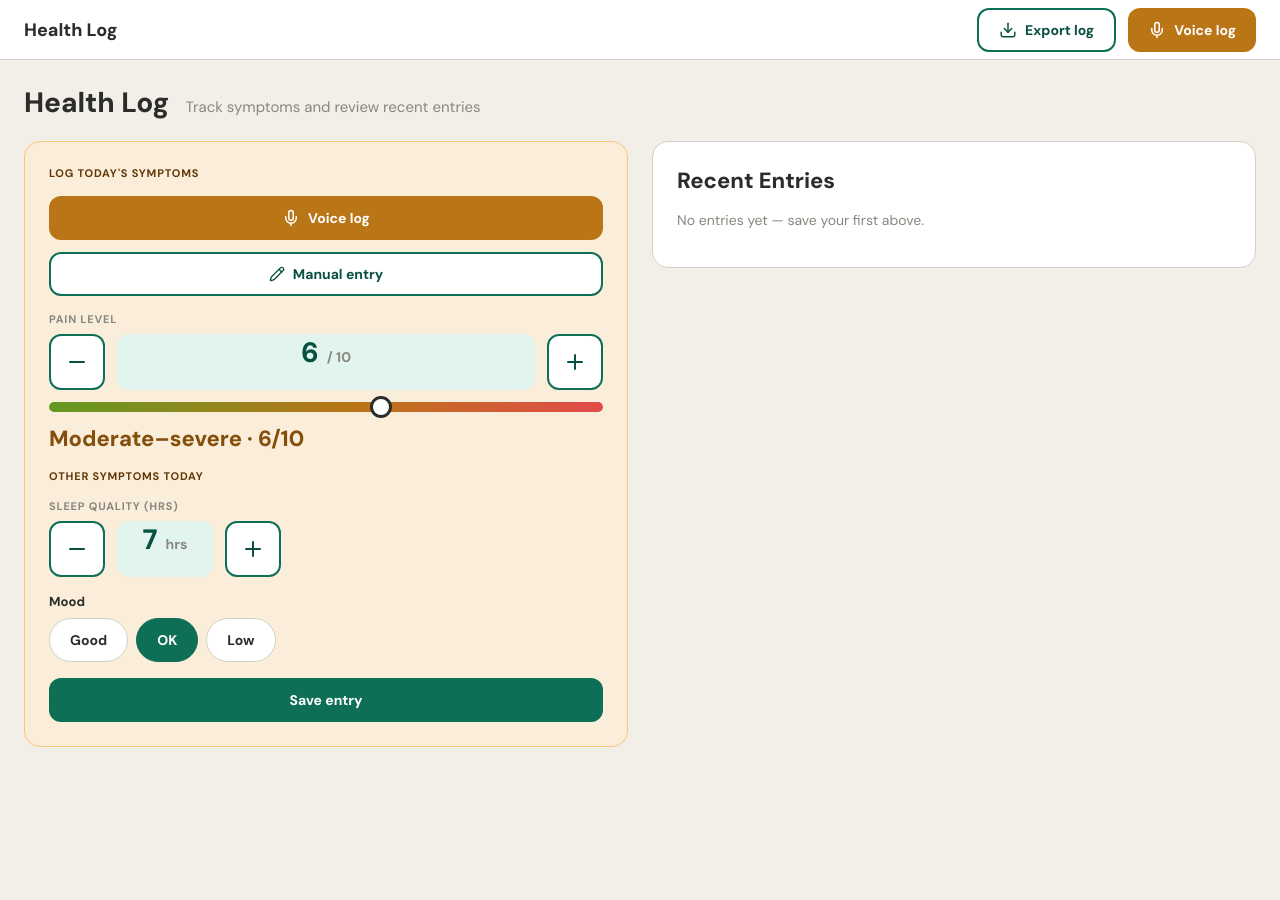
it: HealthLogScreen › saves a manual entry into Recent Entries and resets the controls
Expected: the text "No entries yet — save your first above." is shown, 677,211 -> 924,229
Click the button named "Increase Pain level". click: click(575, 362)
box: 547,334 -> 603,390
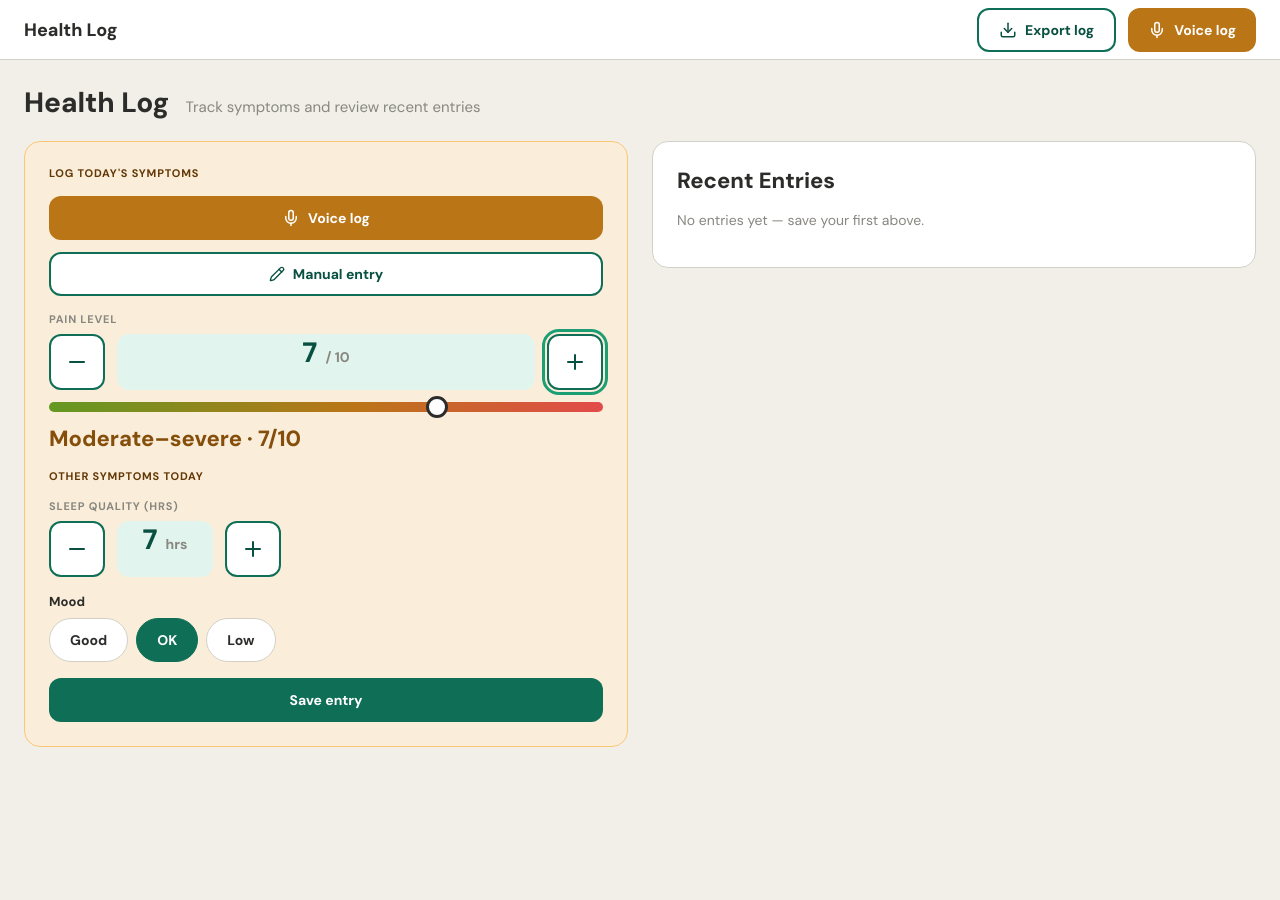
Click the button "Manual entry". click: click(326, 274)
box: 49,252 -> 603,296
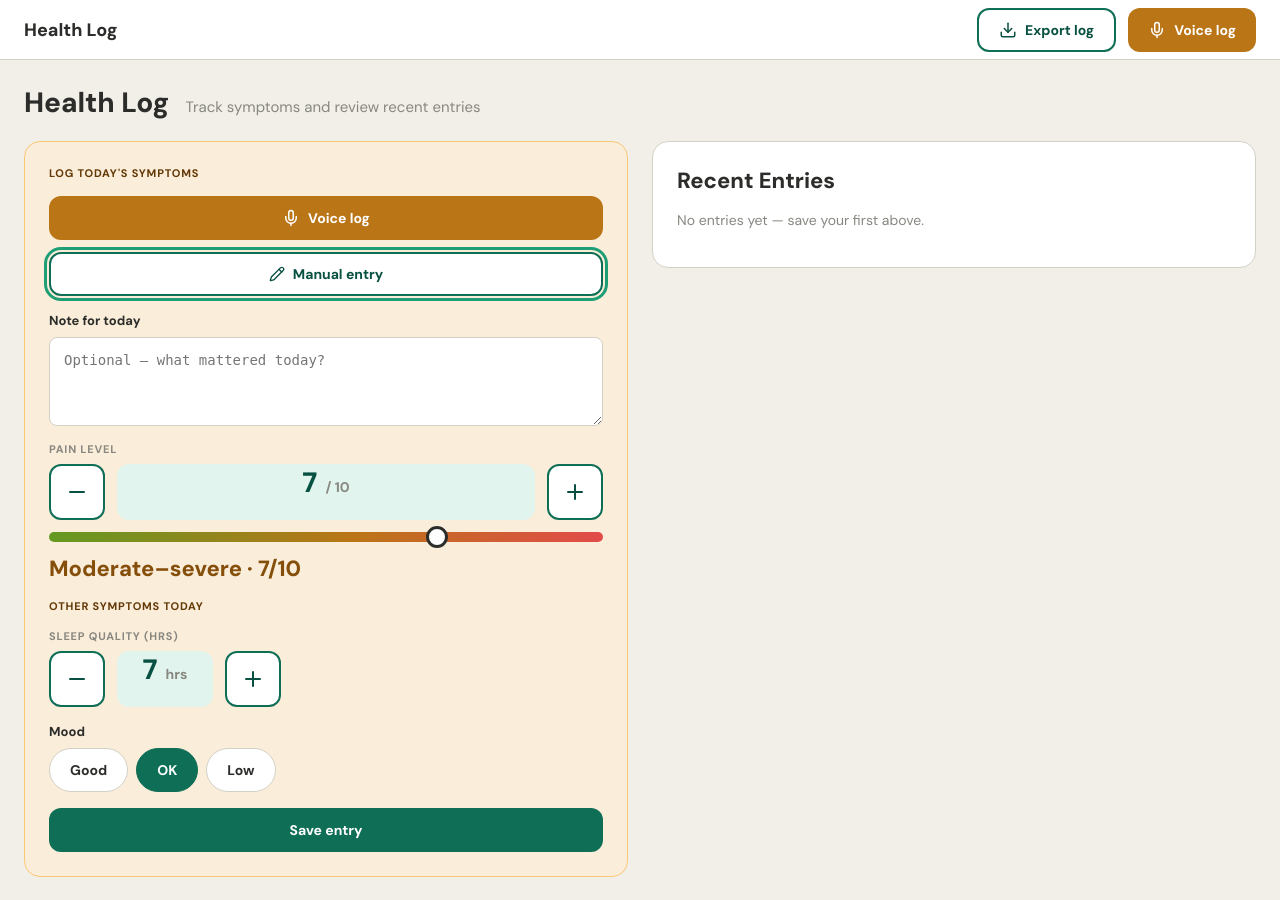
Type "Wrist ache after typing" into the text box labelled "Note for today". click: (326, 382)
box: 49,337 -> 603,426
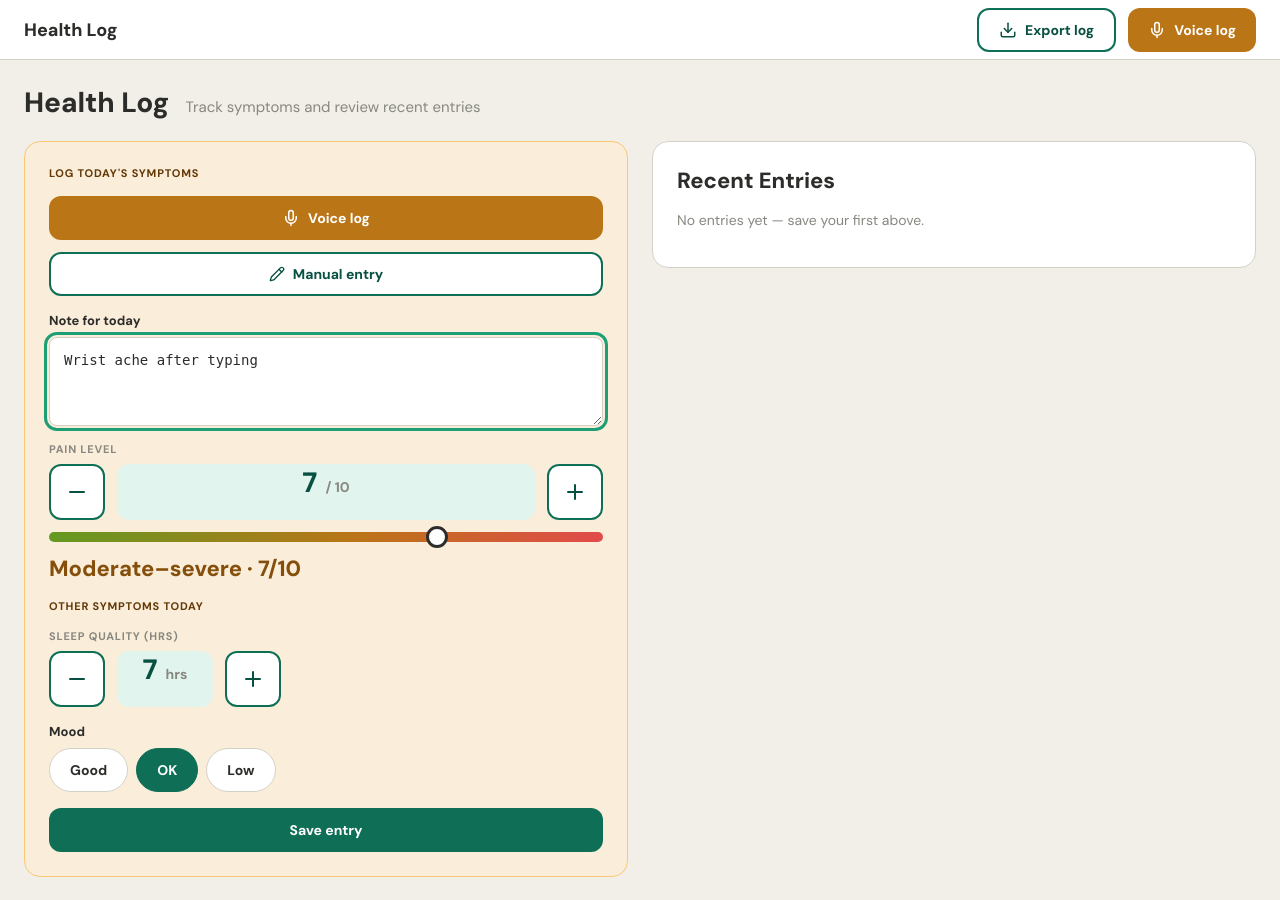
Click the button "Save entry". click: click(326, 830)
box: 49,808 -> 603,852
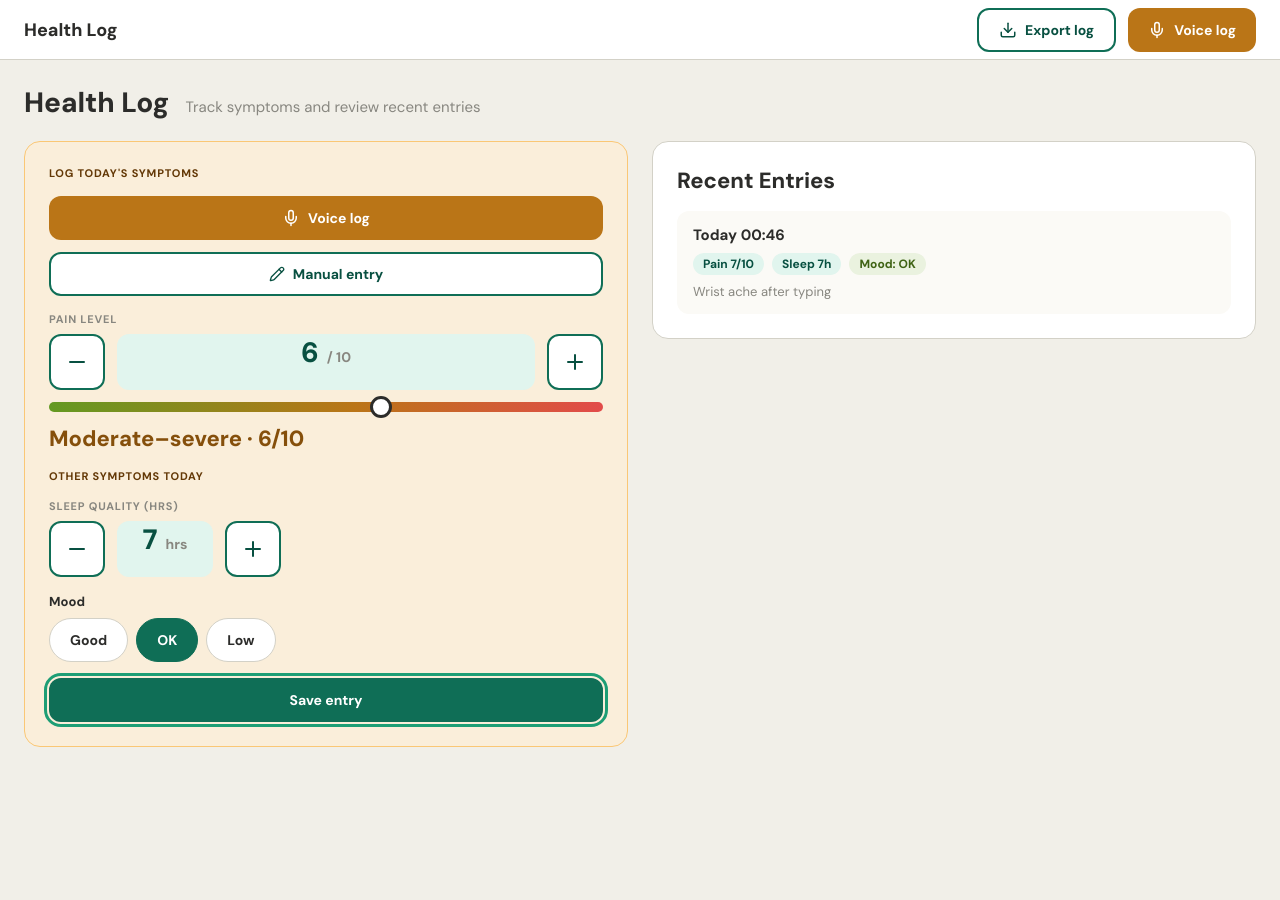
Now the element "Recent Entries" shows "Pain 7/10", box 652,141 -> 1256,339
Now the element "Recent Entries" shows "Wrist ache after typing", box 693,283 -> 831,300
Now the label labelled "Note for today" is gone
